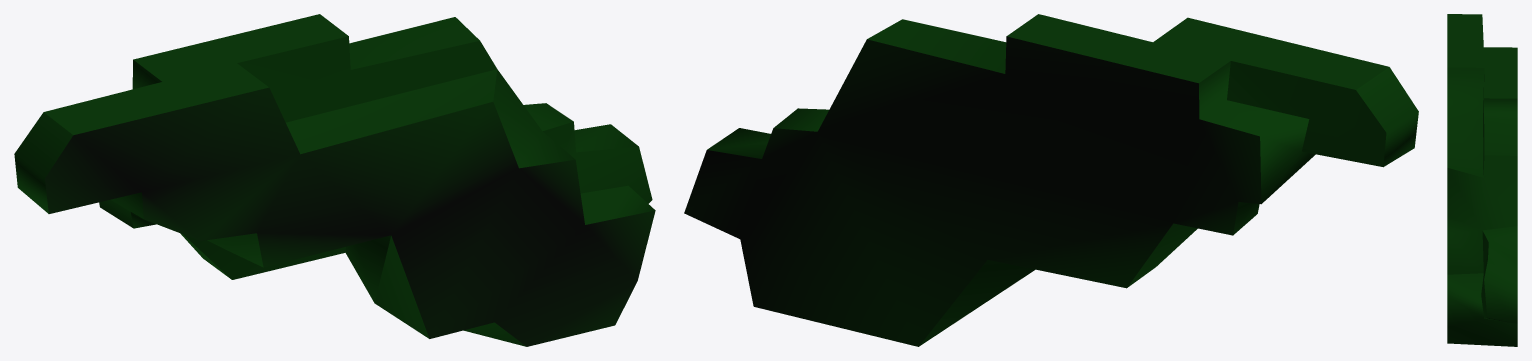
The model's file is DBK_Brick_Prop_Small_A.fbx.
3 views of the same model, side by side, from view 1: azimuth 30°, elevation 25°; view 2: azimuth 150°, elevation 25°; view 3: azimuth 270°, elevation 25° (orthographic). The views are drawn at different scales.
Parts seen in each view (by area): view 1: DBK_Brick_Prop_Small_A; view 2: DBK_Brick_Prop_Small_A; view 3: DBK_Brick_Prop_Small_A.
Part boxes in pixels (x1=…): DBK_Brick_Prop_Small_A: x1=14, y1=14, x2=655, y2=346; DBK_Brick_Prop_Small_A: x1=684, y1=14, x2=1418, y2=346; DBK_Brick_Prop_Small_A: x1=1447, y1=14, x2=1517, y2=346.
Bounding box in the file's own units: 120 × 56.76 × 20.
